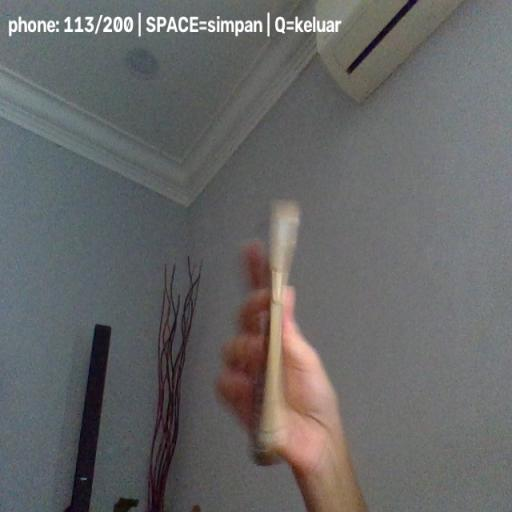Phone: (253, 198, 302, 465)
